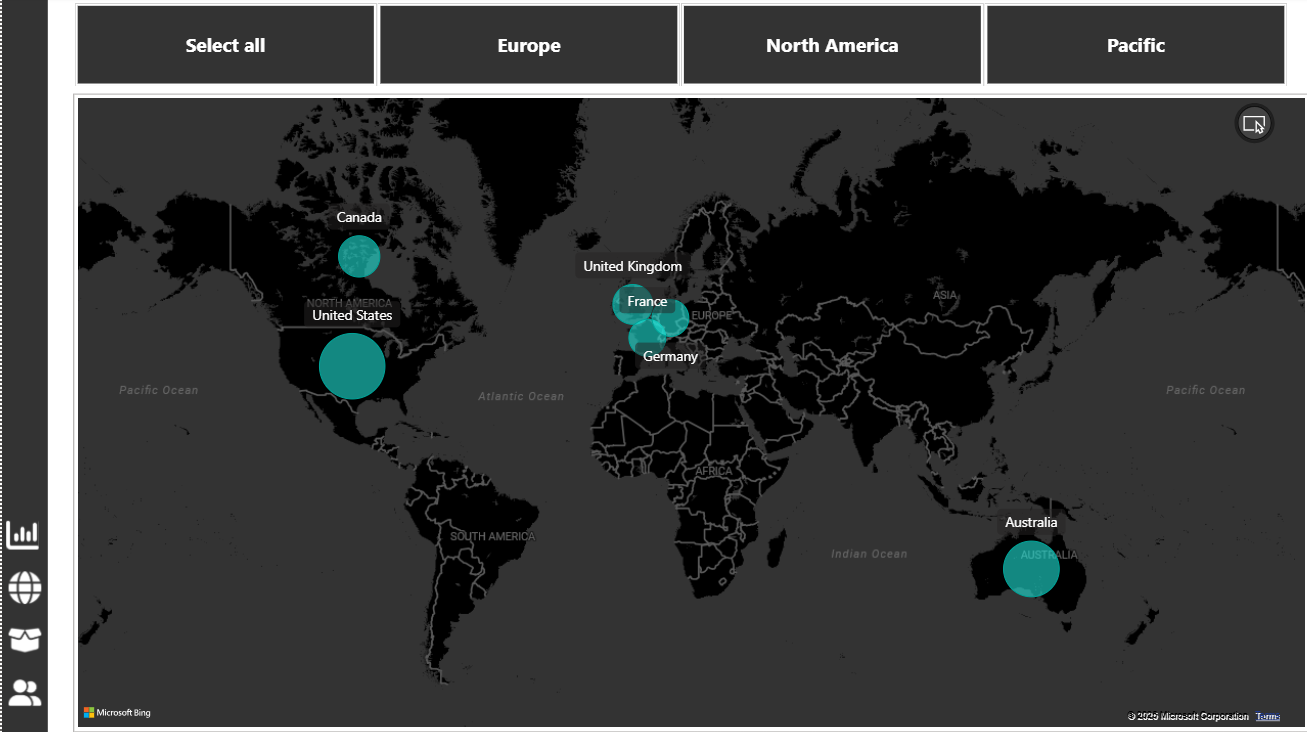

The dashboard page shown, as its layout file describes it:
{"tool":"powerbi","page":{"name":"Map","canvas":[1280,720],"ordinal":1},"visuals":[{"type":"shape","box":[0,0,45,720],"z":0},{"type":"actionButton","box":[2.5,516.7,45.6,37.8],"z":0,"group":"g1"},{"type":"actionButton","box":[3.3,563.4,45.6,37.8],"z":1000,"group":"g1"},{"type":"map","fields":{"Category":["Territory Lookup.Country"],"Size":["Measure Table.Total Orders"]},"box":[65.6,82.5,1191.3,622.8],"z":1000},{"type":"slicer","fields":{"Values":["Territory Lookup.Continent"]},"box":[43,13.6,1234.3,65.6],"z":2000},{"type":"actionButton","box":[3.3,611.1,45.6,37.8],"z":2000,"group":"g1"},{"type":"actionButton","box":[3.3,657.8,45.6,37.8],"z":3000,"group":"g1"},{"type":"group","id":"g1","title":"Navigation Buttons","box":[2.5,516.7,46.4,178.9],"z":3000}]}

Visuals, with their boxes on the page's 1280x720 design canvas (x1, y1, x2, y2). These are canvas units, not pixel positions in the 1307x732 screenshot, which may show the page scaled, cropped or inside an application window:
shape: {"x1": 0, "y1": 0, "x2": 45, "y2": 720}
actionButton: {"x1": 2, "y1": 517, "x2": 48, "y2": 554}
actionButton: {"x1": 3, "y1": 563, "x2": 49, "y2": 601}
map - Territory Lookup.Country x Measure Table.Total Orders: {"x1": 66, "y1": 82, "x2": 1257, "y2": 705}
slicer - Territory Lookup.Continent: {"x1": 43, "y1": 14, "x2": 1277, "y2": 79}
actionButton: {"x1": 3, "y1": 611, "x2": 49, "y2": 649}
actionButton: {"x1": 3, "y1": 658, "x2": 49, "y2": 696}
"Navigation Buttons" group: {"x1": 2, "y1": 517, "x2": 49, "y2": 696}
